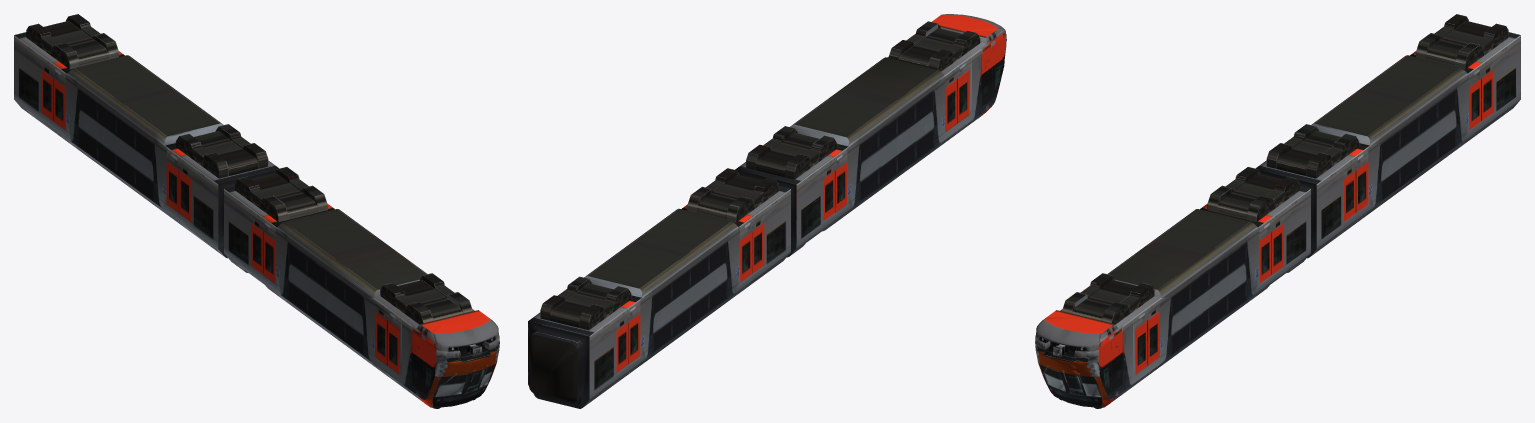
The model's file is 2 Carriage TRAIN (lore accurate).fbx.
3 renders of one model, left to right at view 1: azimuth 30°, elevation 25°; view 2: azimuth 150°, elevation 25°; view 3: azimuth 330°, elevation 25°, orthographic.
Parts seen in each view (by area): view 1: Bake.001; view 2: Bake.001; view 3: Bake.001.
Part boxes in pixels (x1,y1,x2,y2): Bake.001: [14, 14, 499, 408]; Bake.001: [528, 14, 1006, 408]; Bake.001: [1035, 14, 1520, 408].
Bounding box in the file's own units: 5.08 × 61.82 × 7.04.
